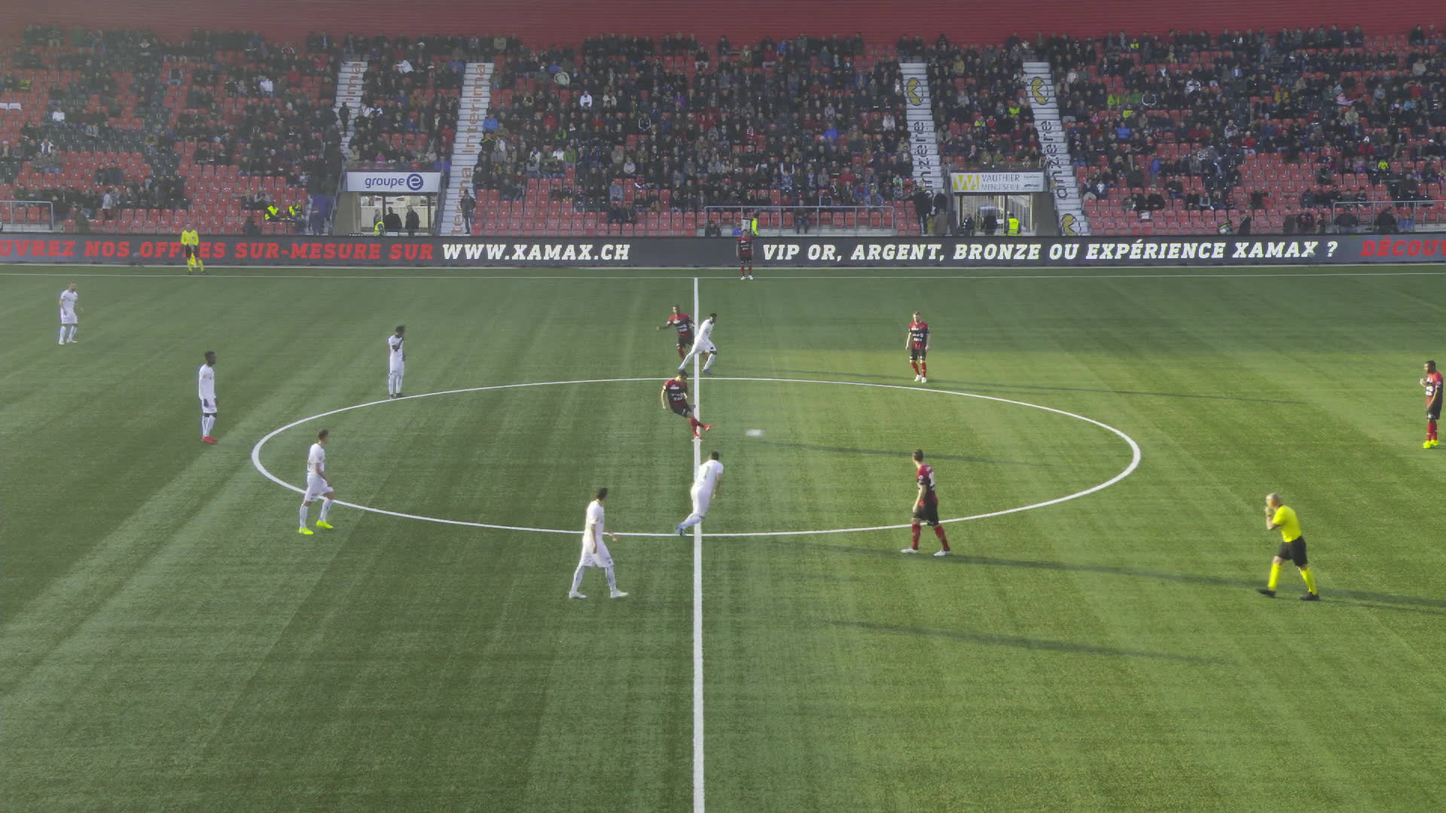ball: (744, 428, 764, 437)
player: (567, 484, 623, 599), (901, 447, 953, 556), (673, 449, 725, 539), (295, 428, 337, 535), (656, 367, 709, 441), (660, 303, 714, 373), (676, 311, 718, 376), (1418, 358, 1444, 448), (197, 350, 220, 444), (904, 309, 931, 383), (57, 280, 82, 345), (387, 322, 407, 400), (734, 228, 754, 280)
referee: (1255, 490, 1326, 601), (180, 222, 208, 275)
